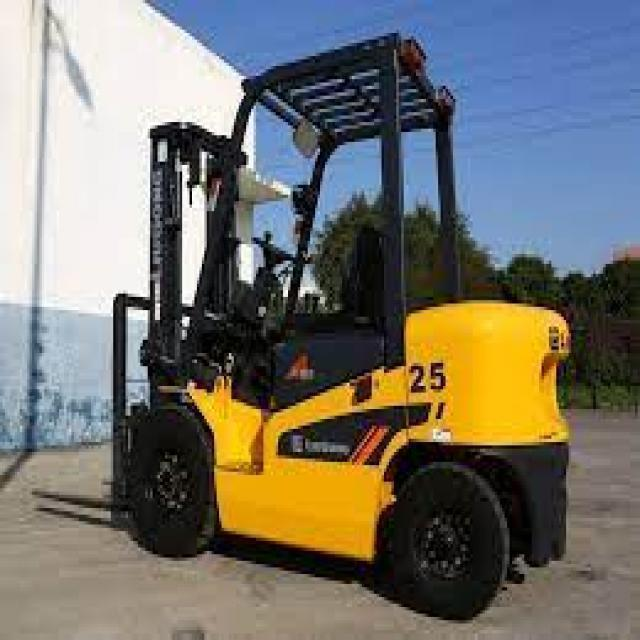forklift: (96, 23, 581, 627)
